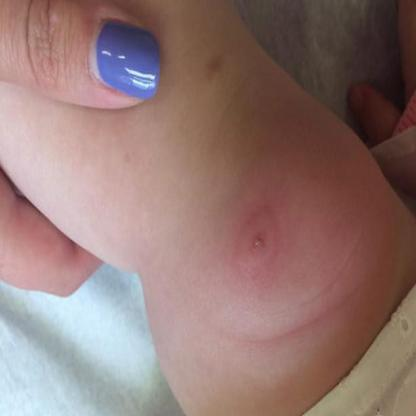Fire ant: (245, 336, 289, 384), (205, 376, 231, 415), (258, 176, 284, 207)
